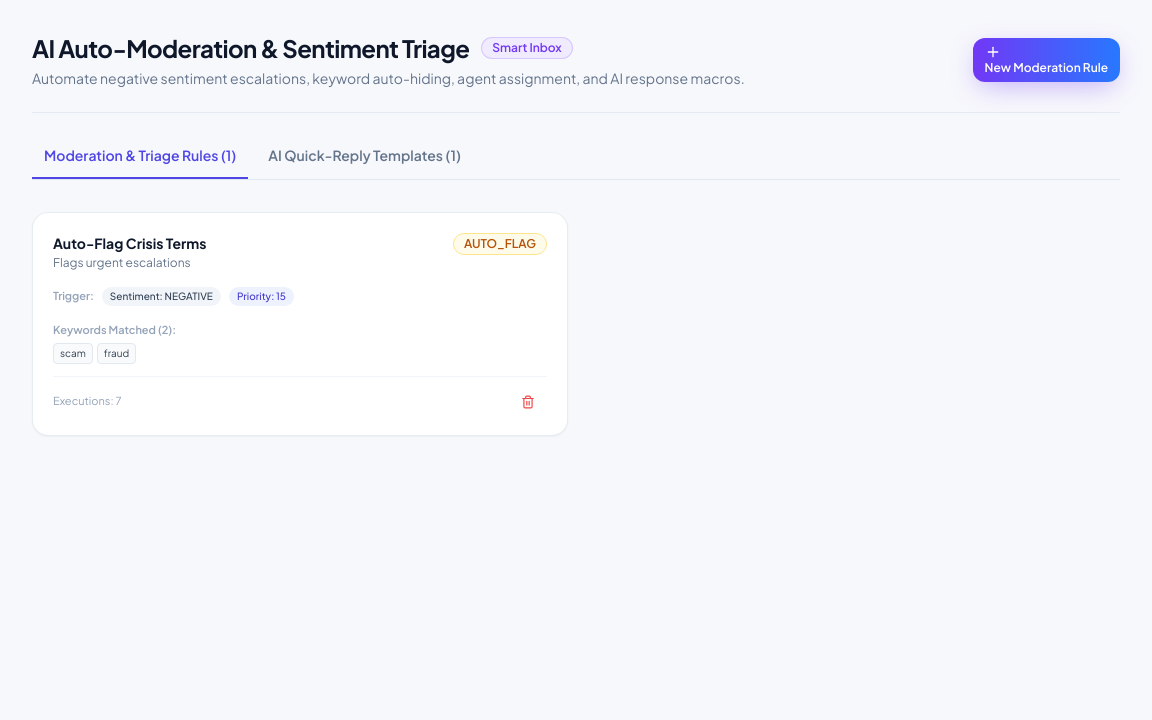
Phase 20: Inbox Moderation & Triage Components › renders rules and opens new rule modal
This screenshot has width=1152, height=720.
expect the heading "Auto-Flag Crisis Terms" is shown: met, box left=53, top=233, right=206, bottom=253
expect the text "Executions: 7" is shown: met, box left=53, top=393, right=121, bottom=410
Click the button "New Moderation Rule": (1046, 60) left=973, top=38, right=1120, bottom=82
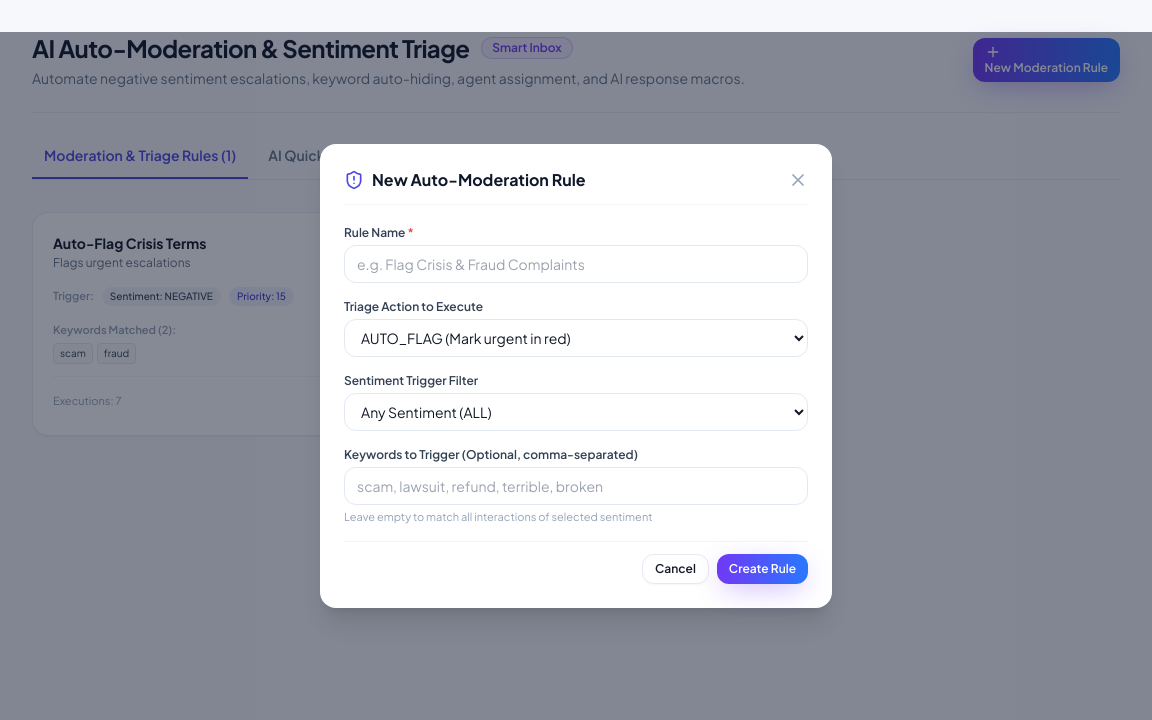
expect the field with placeholder "e.g. Flag Crisis & Fraud Complaints" is shown: met, box left=344, top=245, right=808, bottom=283
